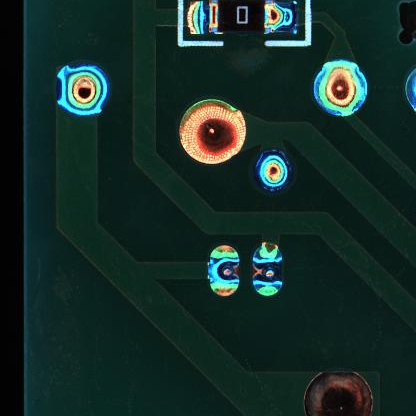spot: (179, 95, 247, 167), (311, 58, 371, 119), (56, 63, 114, 119), (250, 241, 286, 299), (253, 149, 295, 197), (208, 243, 242, 299)
